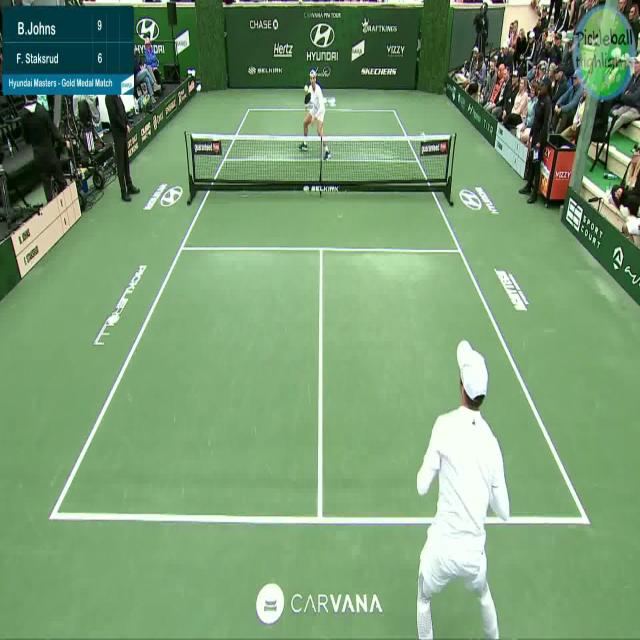Court: (51, 109, 593, 524)
ball: (302, 78, 312, 97)
